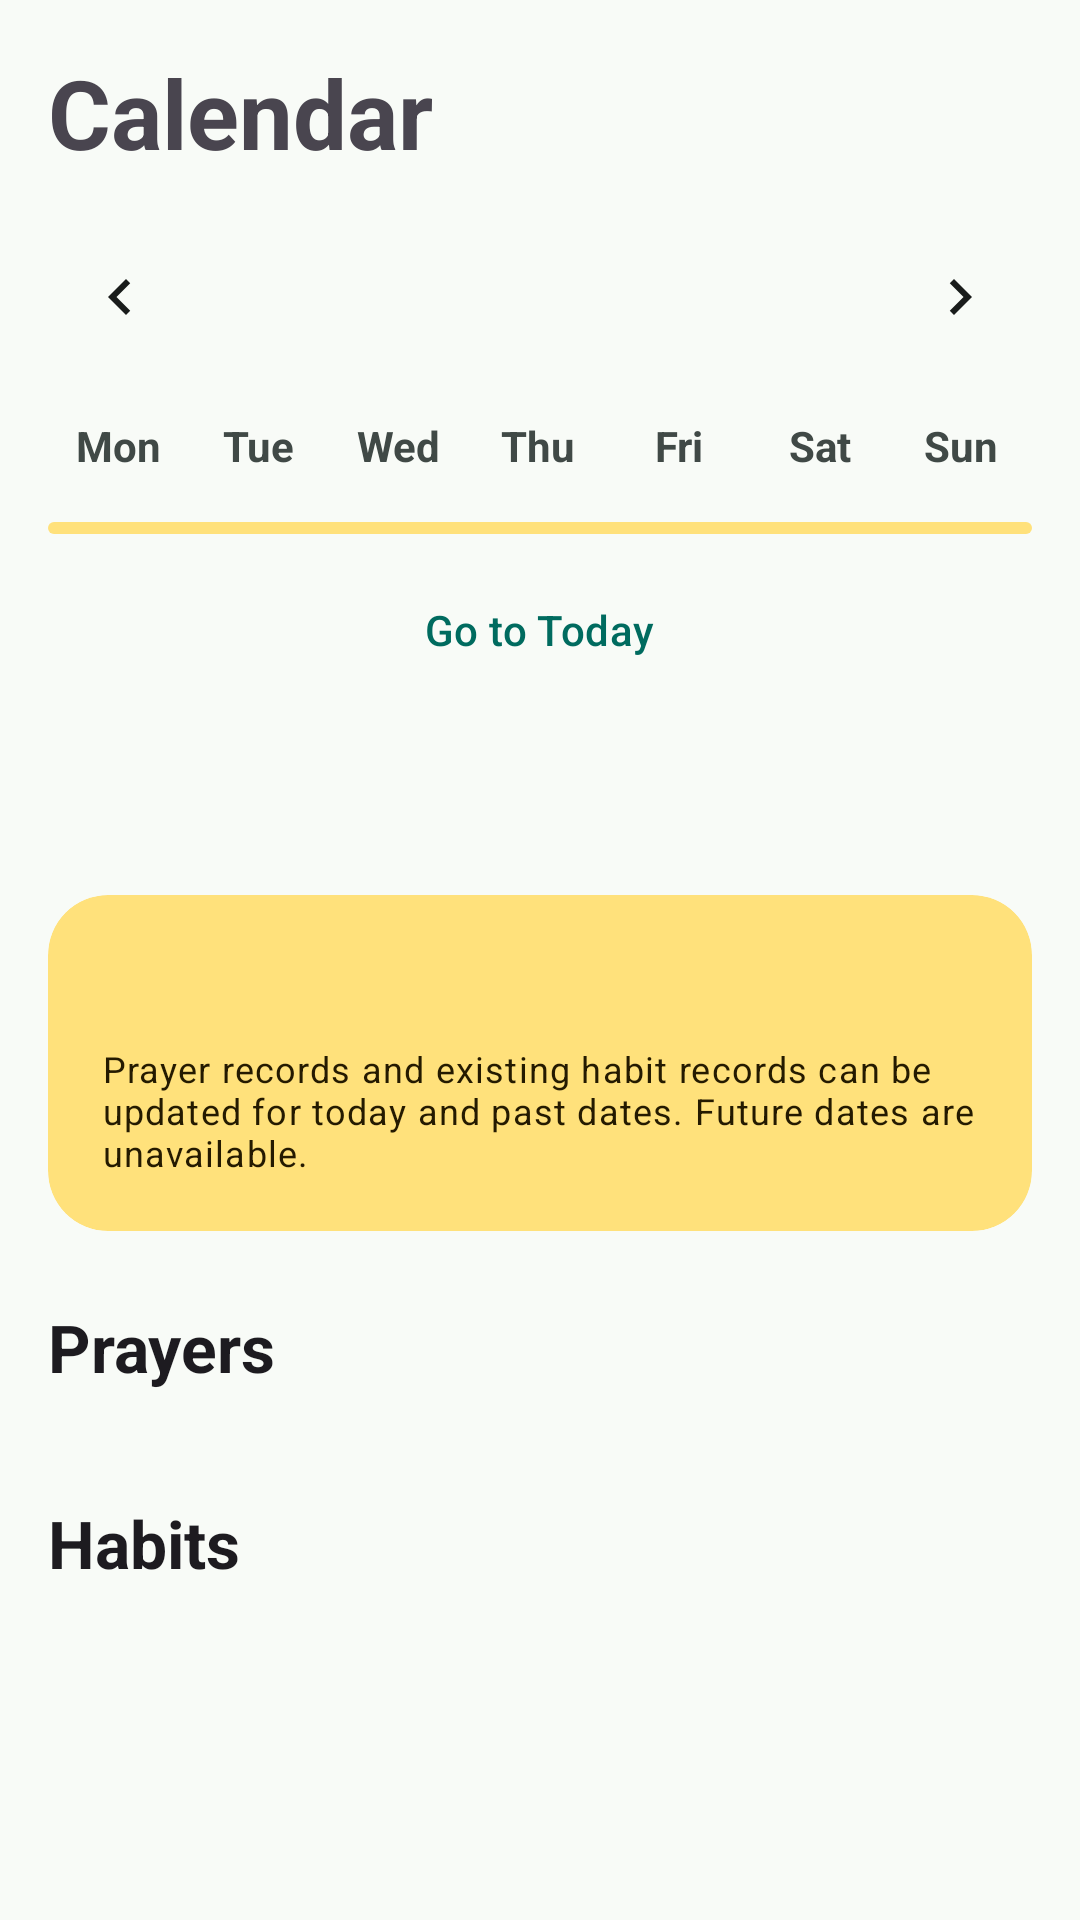

Named icons in this screenshot (1080px×1920px) and their centers, point (x, y):
Next month: point (961, 297)
Previous month: point (119, 297)
